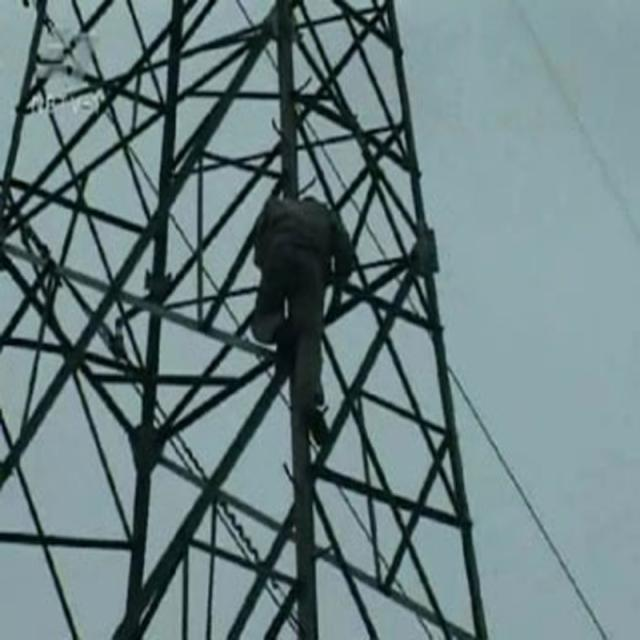non-critical vegetation: (27, 23, 466, 626)
